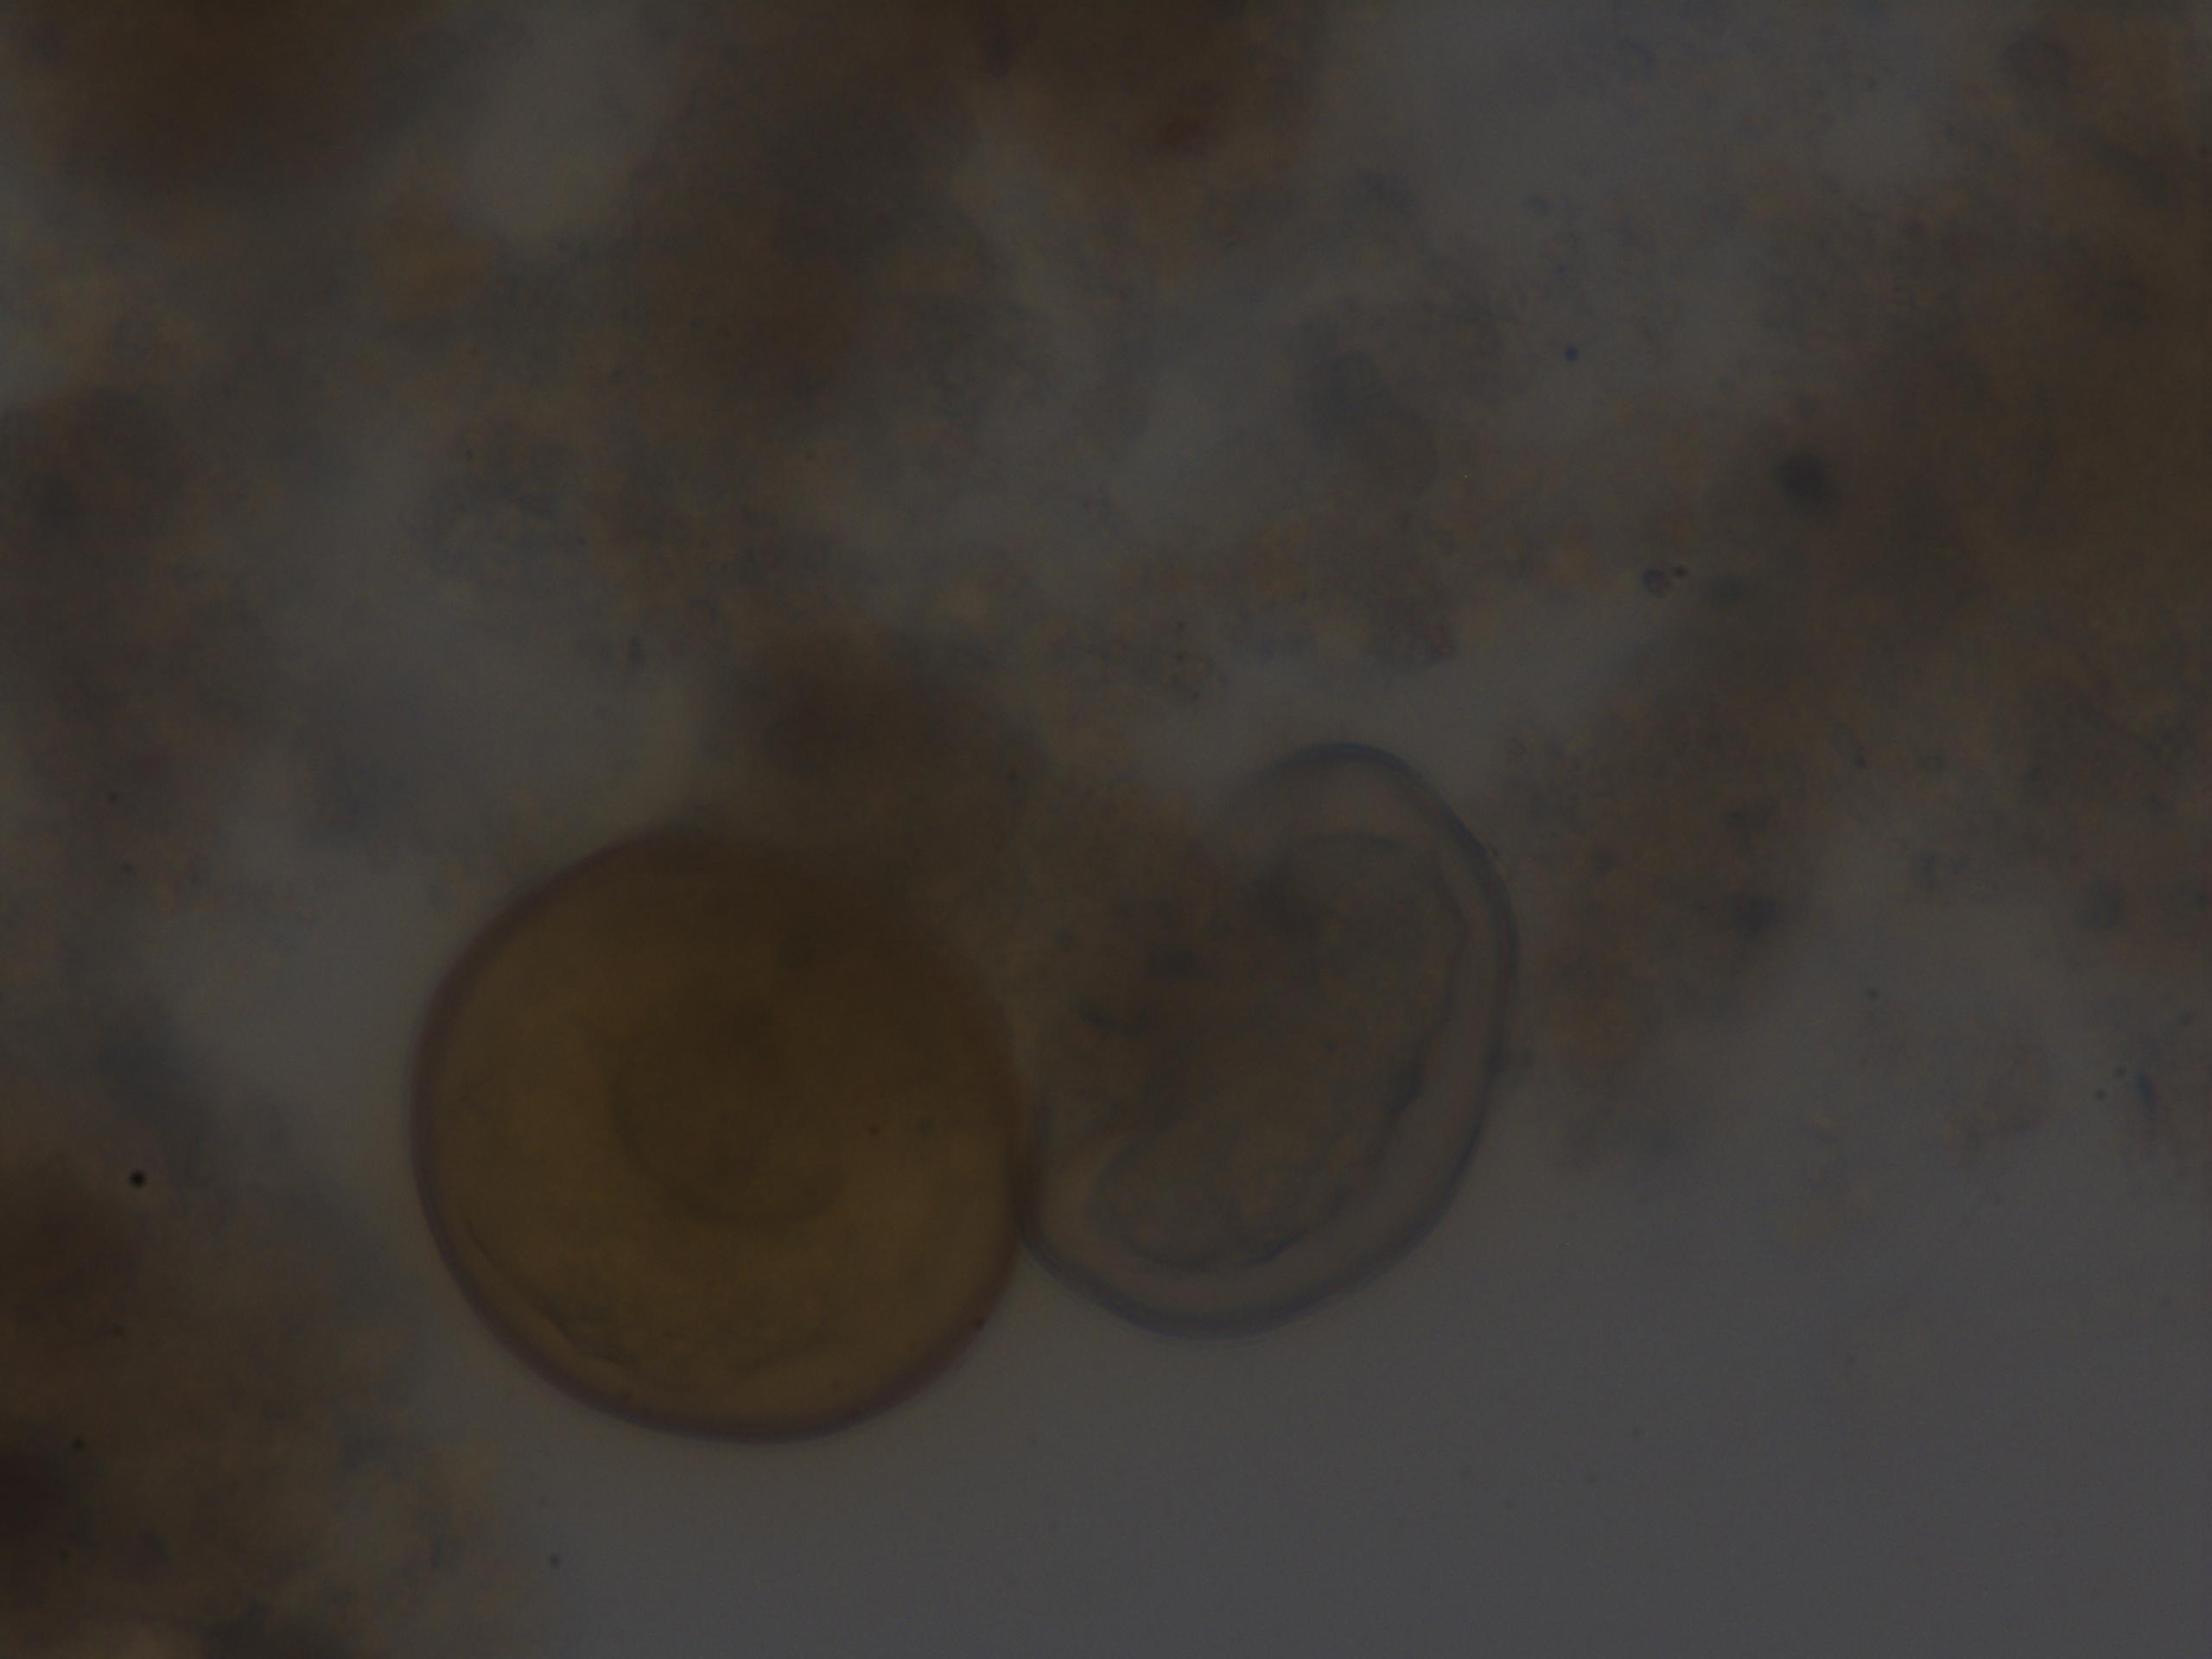protozoa: (395, 753, 1029, 1459), (1038, 723, 1527, 1359)
